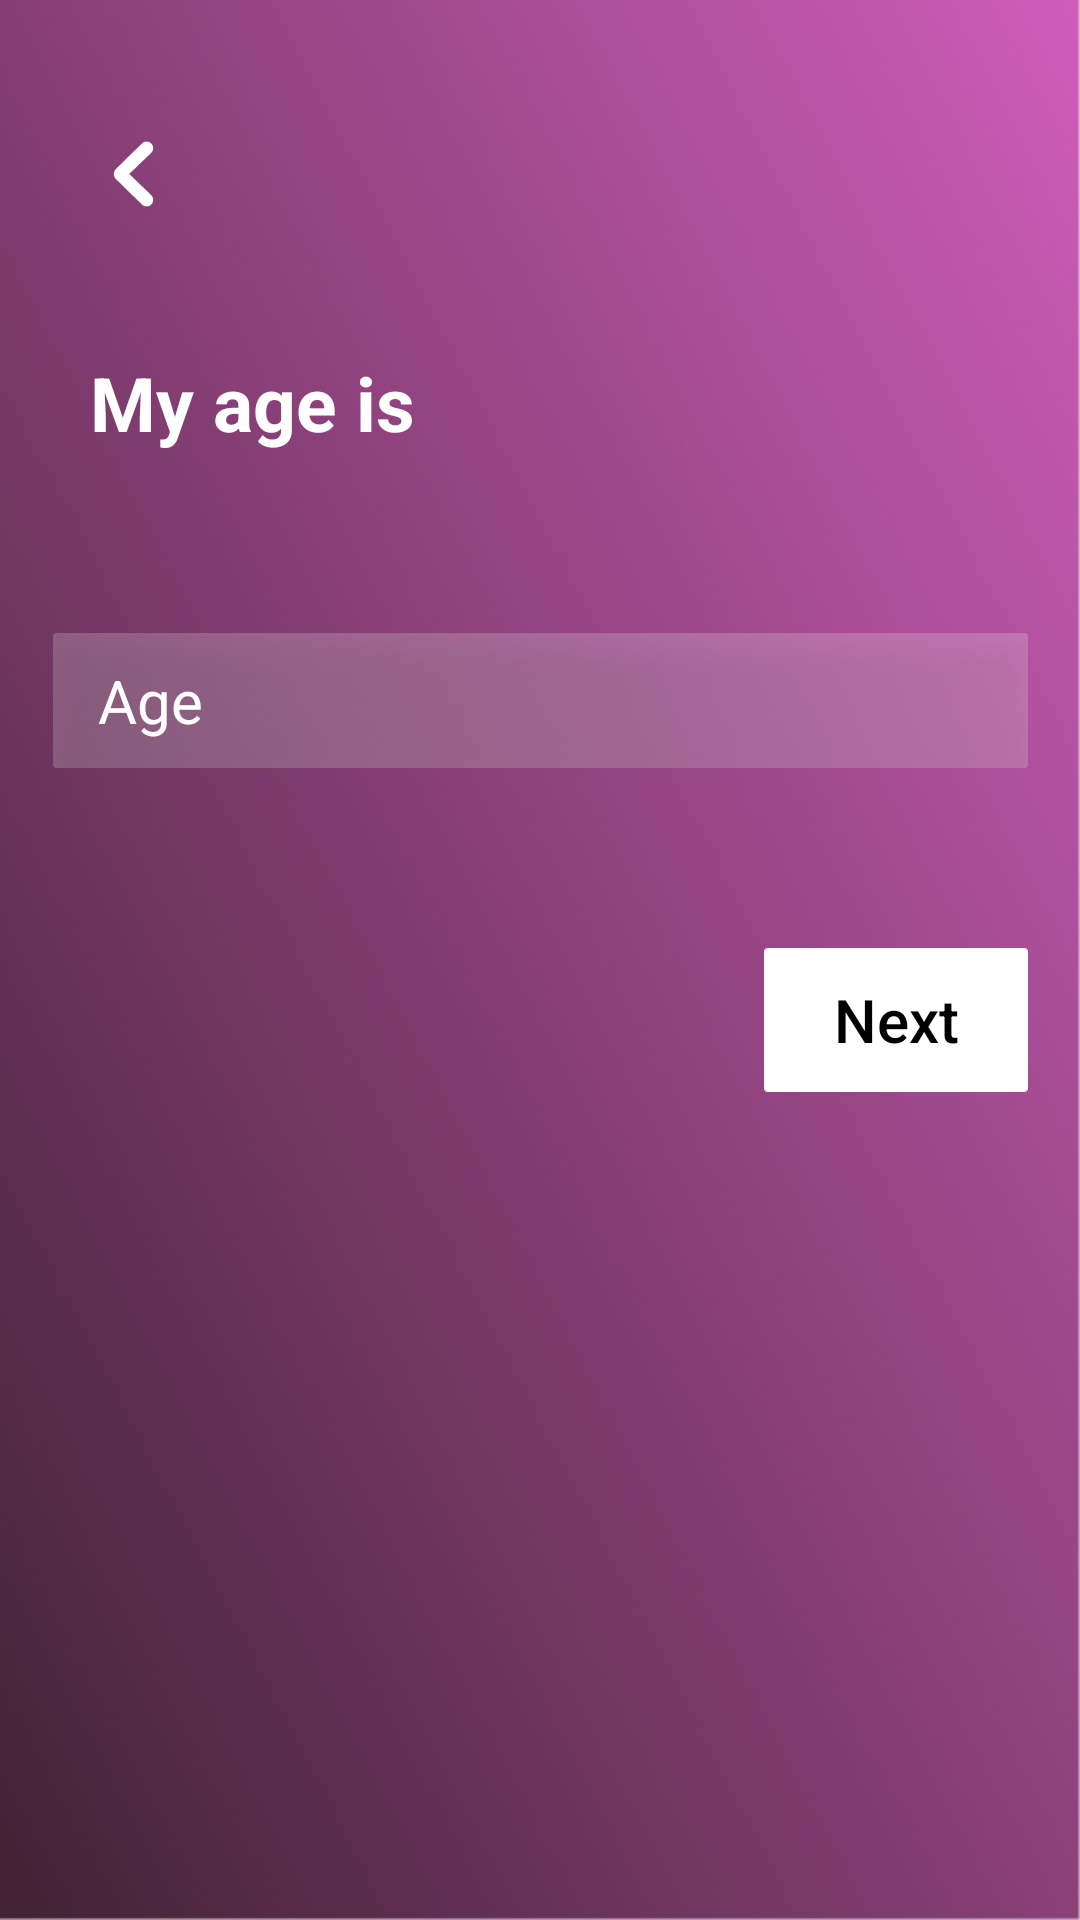

Screen size 1080*1920. Icon name, then its box in pixels as (x1, y1, x2, y2):
back: (113, 141, 154, 207)
